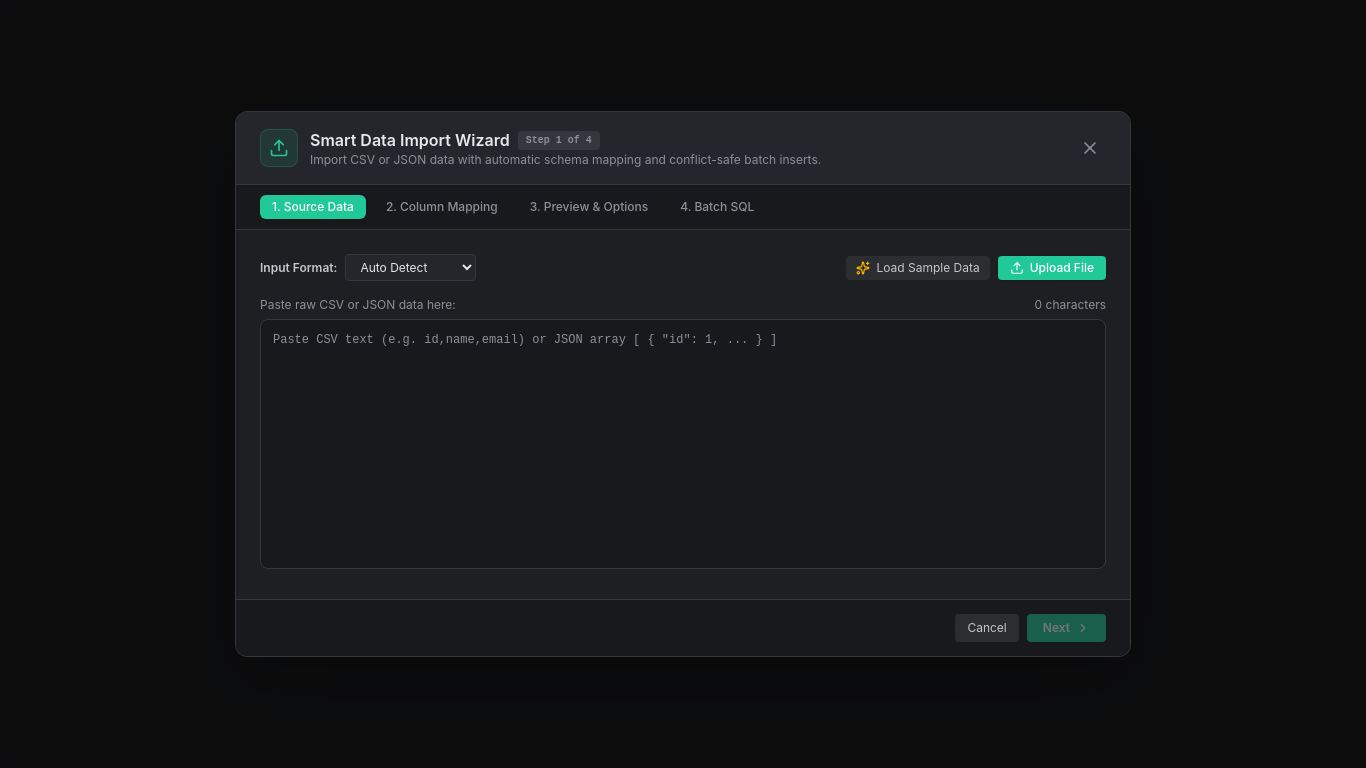
Test: DataImportModal component › populates sample data and navigates to Step 2 (Column Mapping)
Note: Click Load Sample Data
Click the button "Load Sample Data" at (918, 268), box [846,256,990,280]
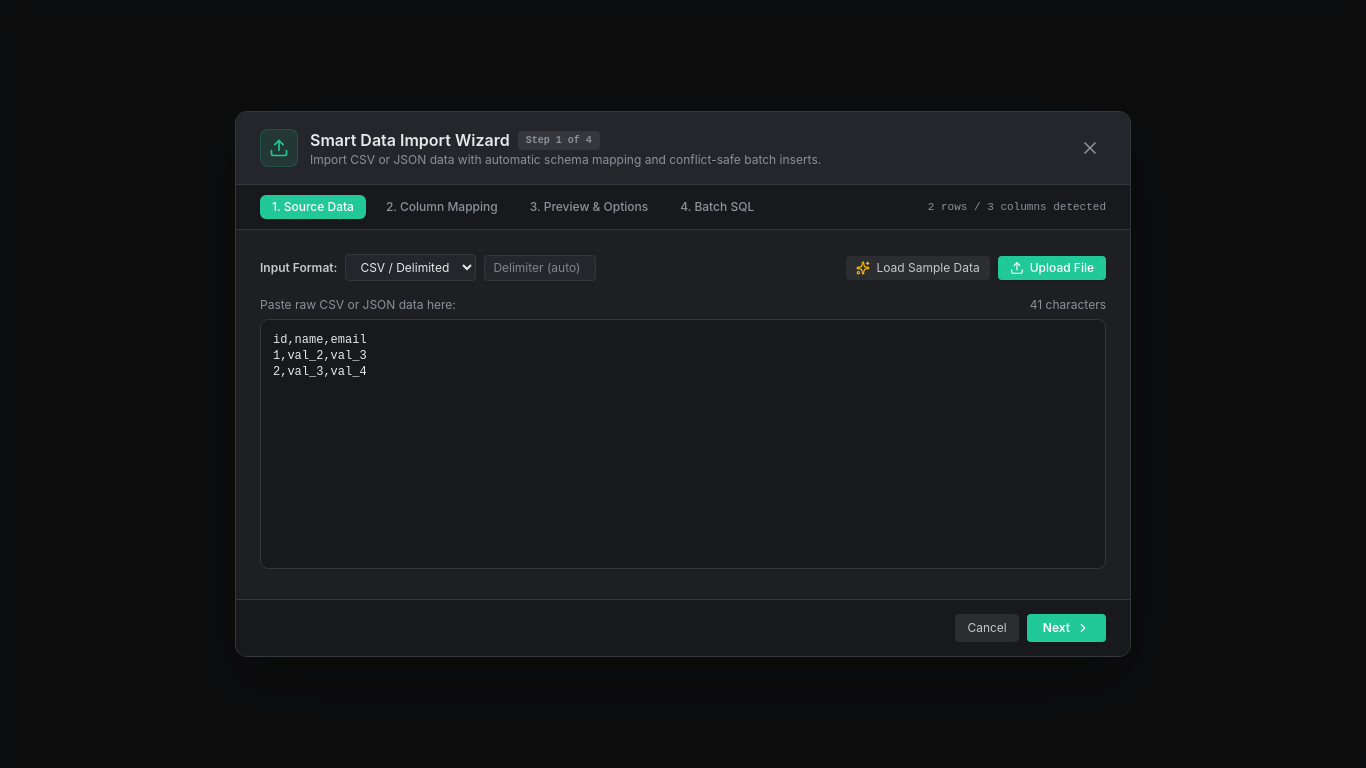
Note: Click Next button to advance to Step 2
Click the button with test id "import-next-btn" at (1066, 628), box [1027,614,1106,642]
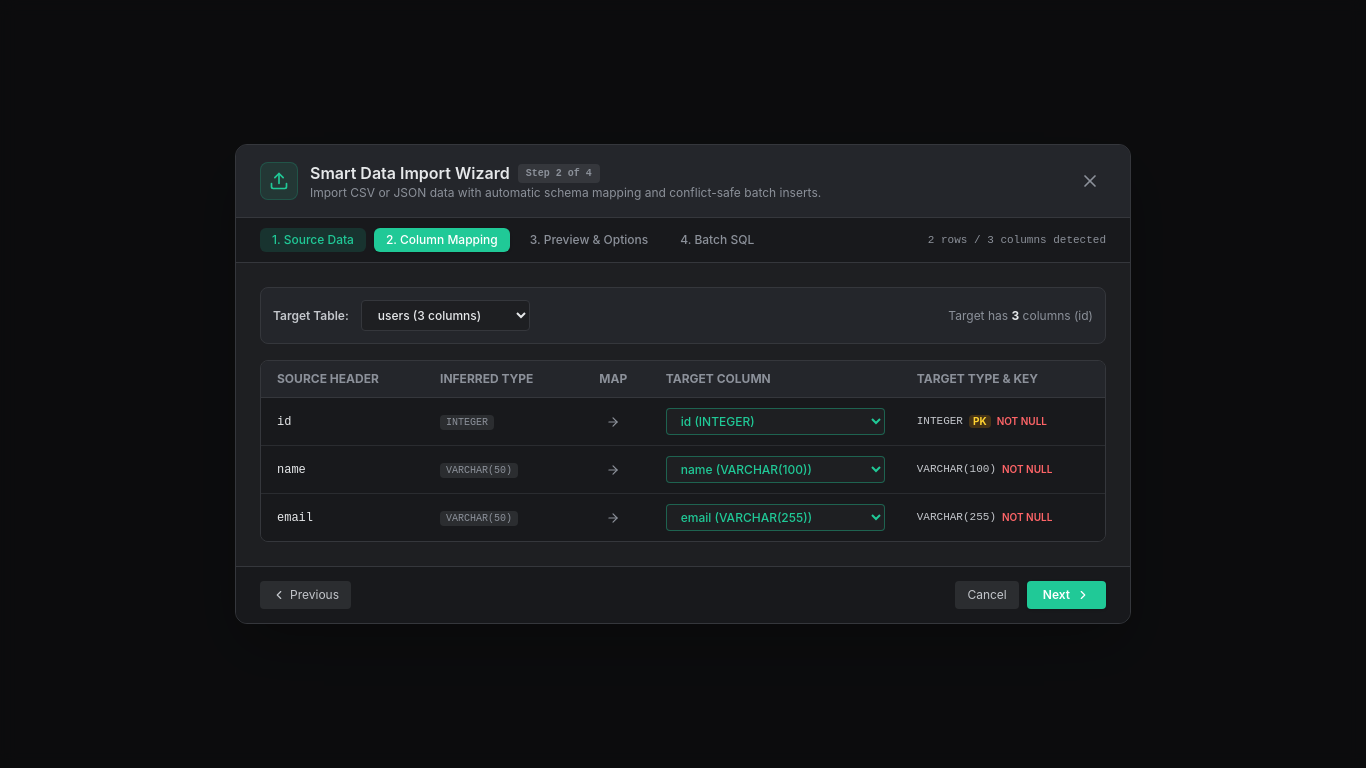
Now the dropdown with test id "import-target-table-select" is shown, box [361,300,530,331]
Now the column heading "Source Header" is shown, box [261,361,424,398]
